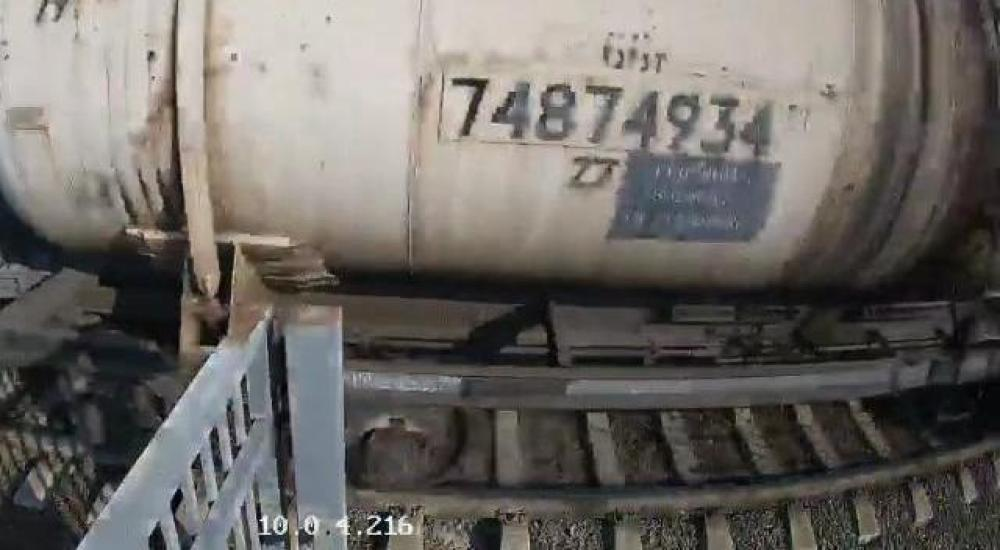Wagon-number: (445, 74, 775, 160)
